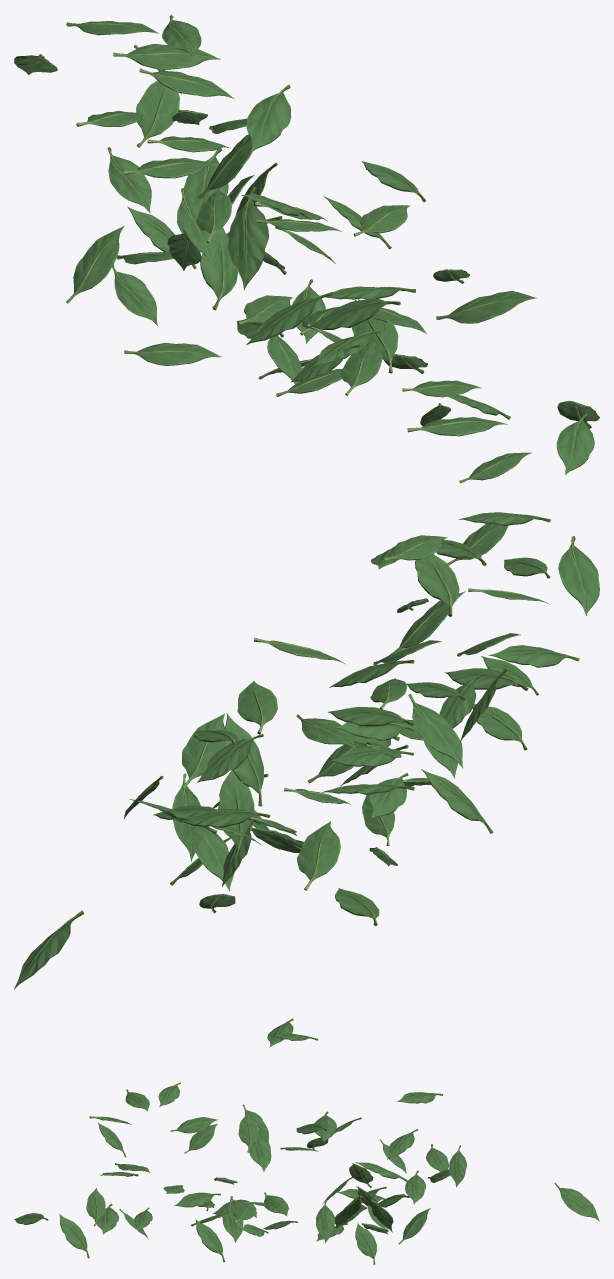
File: holy_canopy16_complete.glb
3 renders of one model, top to bottom at view 1: azimuth 30°, elevation 25°; view 2: azimuth 150°, elevation 25°; view 3: azimuth 270°, elevation 25°, orthographic. The views are drawn at different scales.
Parts seen in each view (by area): view 1: holy_canopy16; view 2: holy_canopy16; view 3: holy_canopy16.
Boxes of the visible parts, box(x1,y1,x2,y2) form: holy_canopy16: box(14, 14, 599, 483); holy_canopy16: box(14, 512, 599, 989); holy_canopy16: box(14, 1018, 599, 1264).
Size of the model in its own units: 9.7 by 10.49 by 28.93.
1 material, 1 textured.
